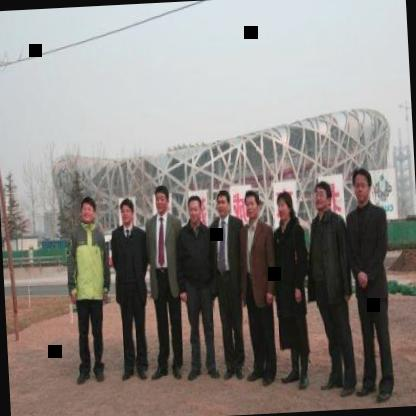head: (348, 164, 376, 207), (312, 177, 334, 217), (77, 192, 100, 226), (211, 185, 232, 218), (275, 192, 296, 223), (242, 190, 262, 221), (153, 183, 172, 214), (117, 195, 136, 226), (186, 193, 204, 224)
